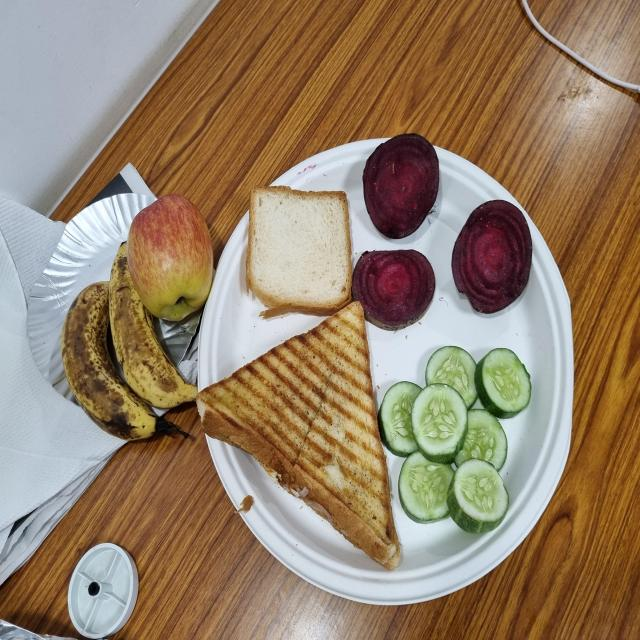apple: (124, 196, 210, 318)
banana: (61, 281, 157, 442), (108, 247, 198, 411)
cucumber: (379, 347, 532, 538)
